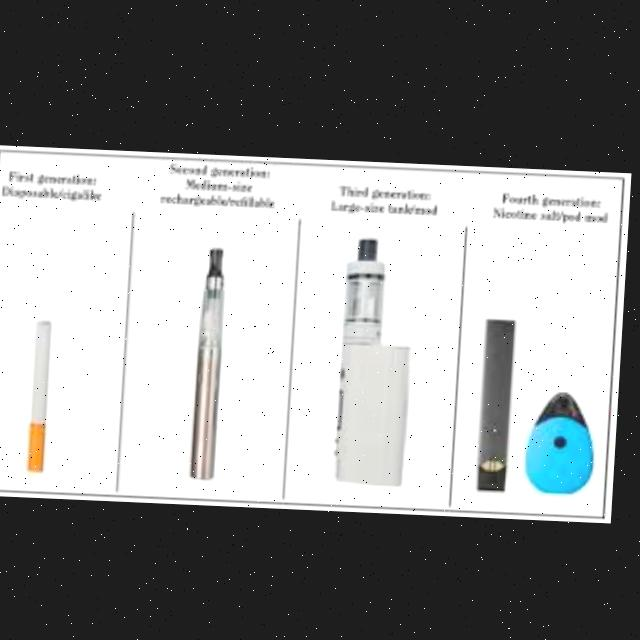cigarette: (32, 319, 55, 471)
vape: (340, 234, 420, 482), (196, 246, 231, 478), (529, 385, 602, 490), (483, 315, 520, 488)
